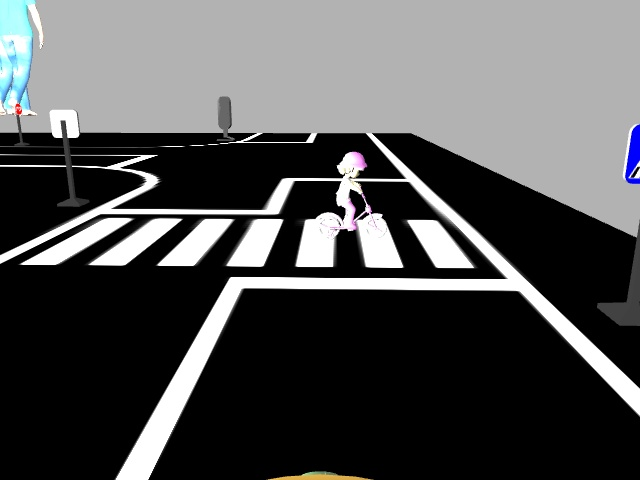Crosswalk: (619, 118, 639, 193)
Pedestrian: (319, 148, 390, 240)
